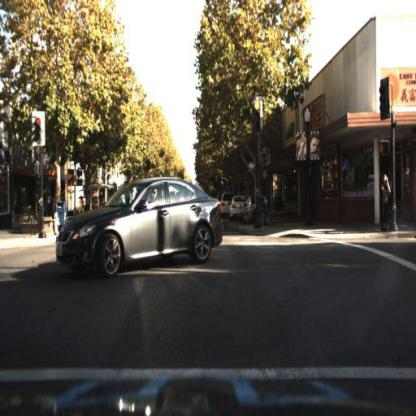car: (52, 178, 225, 271), (242, 194, 269, 225), (229, 192, 248, 225), (230, 198, 246, 218), (221, 192, 229, 215)
pedestrian: (378, 172, 394, 237), (378, 170, 393, 235), (252, 193, 264, 235)
trafficLight-Red: (252, 99, 262, 135), (34, 112, 44, 146)
